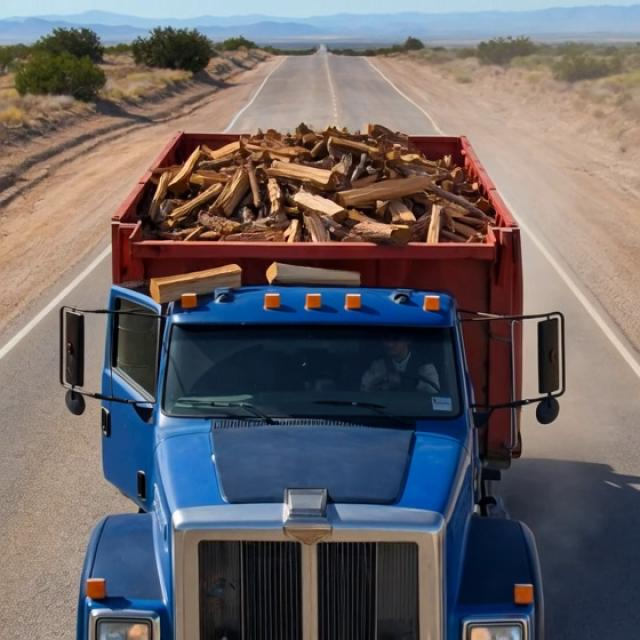Box: (124, 119, 519, 281)
Truck: (58, 95, 584, 638)
